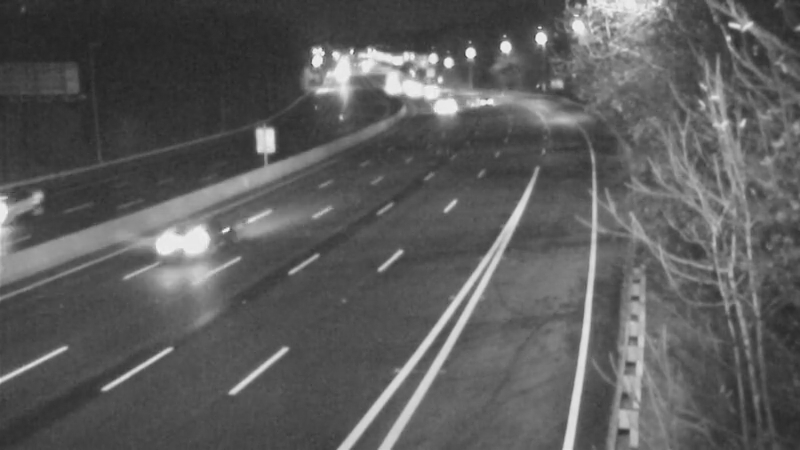vehicle: (147, 201, 227, 281), (1, 171, 71, 251), (455, 73, 505, 123), (419, 80, 469, 130)
